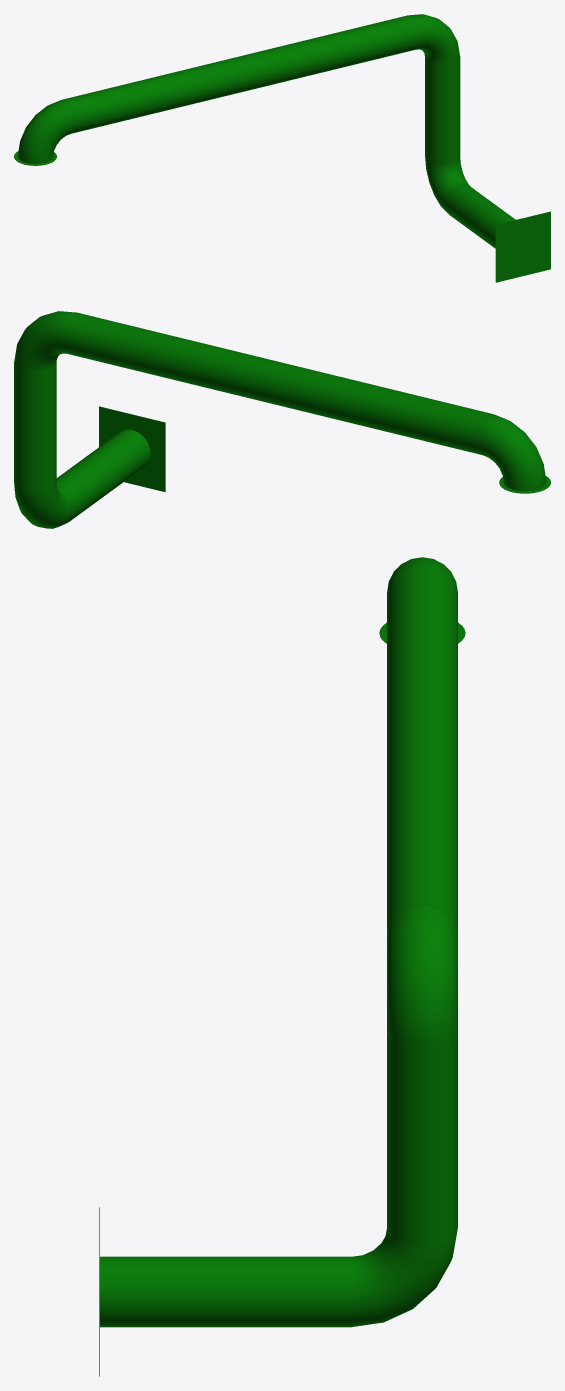
File: Image-1710907701433-2280781800368_77-GA53-SUPPLY-DUCT_HER.fbx
3 renders of one model, top to bottom at view 1: azimuth 30°, elevation 25°; view 2: azimuth 150°, elevation 25°; view 3: azimuth 270°, elevation 25°, orthographic. The views are drawn at different scales.
Parts seen in each view (by area): view 1: CYLINDER 3 of EQUIPMENT /77-GA53-SUPPLY-DUCT_HER, CYLINDER 1 of EQUIPMENT /77-GA53-SUPPLY-DUCT_HER, BOX 1 of EQUIPMENT /77-GA53-SUPPLY-DUCT_HER, CTORUS 3 of EQUIPMENT /77-GA53-SUPPLY-DUCT_HER, CYLINDER 2 of EQUIPMENT /77-GA53-SUPPLY-DUCT_HER, CTORUS 2 of EQUIPMENT /77-GA53-SUPPLY-DUCT_HER, CTORUS 1 of EQUIPMENT /77-GA53-SUPPLY-DUCT_HER; view 2: CYLINDER 3 of EQUIPMENT /77-GA53-SUPPLY-DUCT_HER, CYLINDER 1 of EQUIPMENT /77-GA53-SUPPLY-DUCT_HER, CYLINDER 2 of EQUIPMENT /77-GA53-SUPPLY-DUCT_HER, CTORUS 3 of EQUIPMENT /77-GA53-SUPPLY-DUCT_HER, BOX 1 of EQUIPMENT /77-GA53-SUPPLY-DUCT_HER, CTORUS 2 of EQUIPMENT /77-GA53-SUPPLY-DUCT_HER, CTORUS 1 of EQUIPMENT /77-GA53-SUPPLY-DUCT_HER; view 3: CYLINDER 3 of EQUIPMENT /77-GA53-SUPPLY-DUCT_HER, CYLINDER 2 of EQUIPMENT /77-GA53-SUPPLY-DUCT_HER, CYLINDER 1 of EQUIPMENT /77-GA53-SUPPLY-DUCT_HER, CTORUS 2 of EQUIPMENT /77-GA53-SUPPLY-DUCT_HER, CTORUS 1 of EQUIPMENT /77-GA53-SUPPLY-DUCT_HER.
Part boxes in pixels (left/top/right/bottom): CYLINDER 3 of EQUIPMENT /77-GA53-SUPPLY-DUCT_HER: left=63, top=15, right=420, bottom=133; CYLINDER 1 of EQUIPMENT /77-GA53-SUPPLY-DUCT_HER: left=425, top=56, right=460, bottom=163; BOX 1 of EQUIPMENT /77-GA53-SUPPLY-DUCT_HER: left=495, top=211, right=550, bottom=282; CTORUS 3 of EQUIPMENT /77-GA53-SUPPLY-DUCT_HER: left=18, top=99, right=74, bottom=163; CYLINDER 2 of EQUIPMENT /77-GA53-SUPPLY-DUCT_HER: left=445, top=184, right=515, bottom=248; CTORUS 2 of EQUIPMENT /77-GA53-SUPPLY-DUCT_HER: left=410, top=14, right=460, bottom=64; CTORUS 1 of EQUIPMENT /77-GA53-SUPPLY-DUCT_HER: left=425, top=157, right=470, bottom=211; CYLINDER 3 of EQUIPMENT /77-GA53-SUPPLY-DUCT_HER: left=61, top=312, right=491, bottom=454; CYLINDER 1 of EQUIPMENT /77-GA53-SUPPLY-DUCT_HER: left=14, top=362, right=56, bottom=490; CYLINDER 2 of EQUIPMENT /77-GA53-SUPPLY-DUCT_HER: left=56, top=429, right=150, bottom=521; CTORUS 3 of EQUIPMENT /77-GA53-SUPPLY-DUCT_HER: left=477, top=414, right=546, bottom=491; BOX 1 of EQUIPMENT /77-GA53-SUPPLY-DUCT_HER: left=99, top=406, right=165, bottom=492; CTORUS 2 of EQUIPMENT /77-GA53-SUPPLY-DUCT_HER: left=14, top=311, right=75, bottom=371; CTORUS 1 of EQUIPMENT /77-GA53-SUPPLY-DUCT_HER: left=14, top=482, right=74, bottom=528; CYLINDER 3 of EQUIPMENT /77-GA53-SUPPLY-DUCT_HER: left=387, top=566, right=457, bottom=934; CYLINDER 2 of EQUIPMENT /77-GA53-SUPPLY-DUCT_HER: left=100, top=1256, right=351, bottom=1327; CYLINDER 1 of EQUIPMENT /77-GA53-SUPPLY-DUCT_HER: left=387, top=1030, right=457, bottom=1242; CTORUS 2 of EQUIPMENT /77-GA53-SUPPLY-DUCT_HER: left=387, top=904, right=457, bottom=1044; CTORUS 1 of EQUIPMENT /77-GA53-SUPPLY-DUCT_HER: left=351, top=1228, right=457, bottom=1326.
Size of the model in its own units: 7.39 by 2.58 by 3.24.
